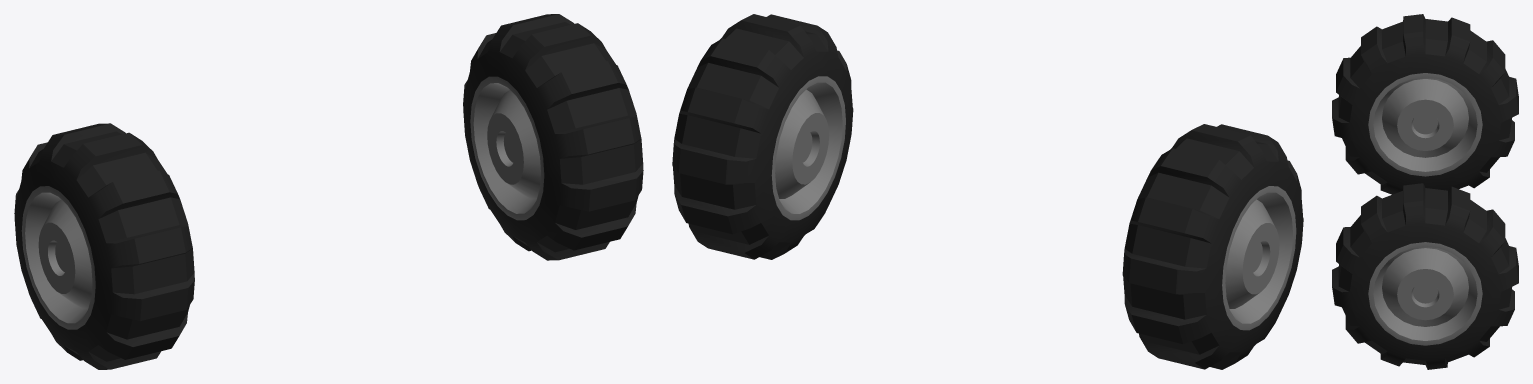
The model's file is backwheels.001_lev1.glb.
3 views of the same model, side by side, from view 1: azimuth 30°, elevation 25°; view 2: azimuth 150°, elevation 25°; view 3: azimuth 270°, elevation 25° (orthographic). The views are drawn at different scales.
Visible parts, largest first — view 1: backwheels.001_lev1; view 2: backwheels.001_lev1; view 3: backwheels.001_lev1.
Boxes of the visible parts, box(x1,y1,x2,y2) form: backwheels.001_lev1: box(14, 14, 643, 369); backwheels.001_lev1: box(672, 14, 1303, 369); backwheels.001_lev1: box(1332, 14, 1518, 369).
Size of the model in its own units: 2.28 by 0.8769 by 0.8769.
Materials: 1 (1 with a texture image).
